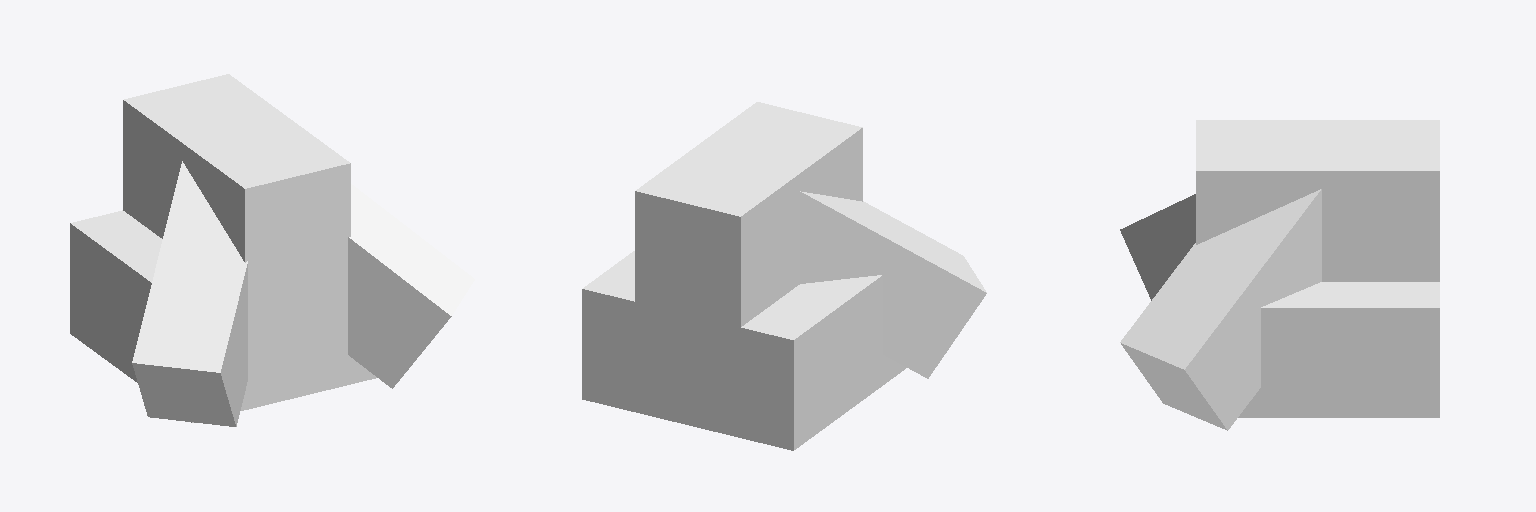
File: mt_roof_ridge_end.obj
The picture shows the model from 3 angles: view 1: azimuth 30°, elevation 25°; view 2: azimuth 150°, elevation 25°; view 3: azimuth 270°, elevation 25°; orthographic projection.
Visible parts, largest first — view 1: cube; view 2: cube; view 3: cube.
Part boxes in pixels (left/top/right/bottom): cube: left=70, top=74, right=474, bottom=426; cube: left=582, top=102, right=986, bottom=450; cube: left=1120, top=120, right=1439, bottom=430.
Bounding box in the file's own units: 1.62 × 1 × 1.31.